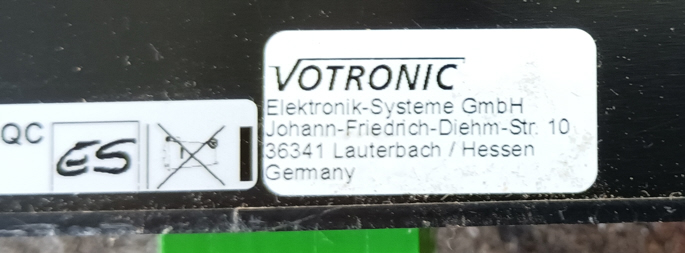p1: (266, 94, 526, 117)
p2: (264, 138, 444, 159)
